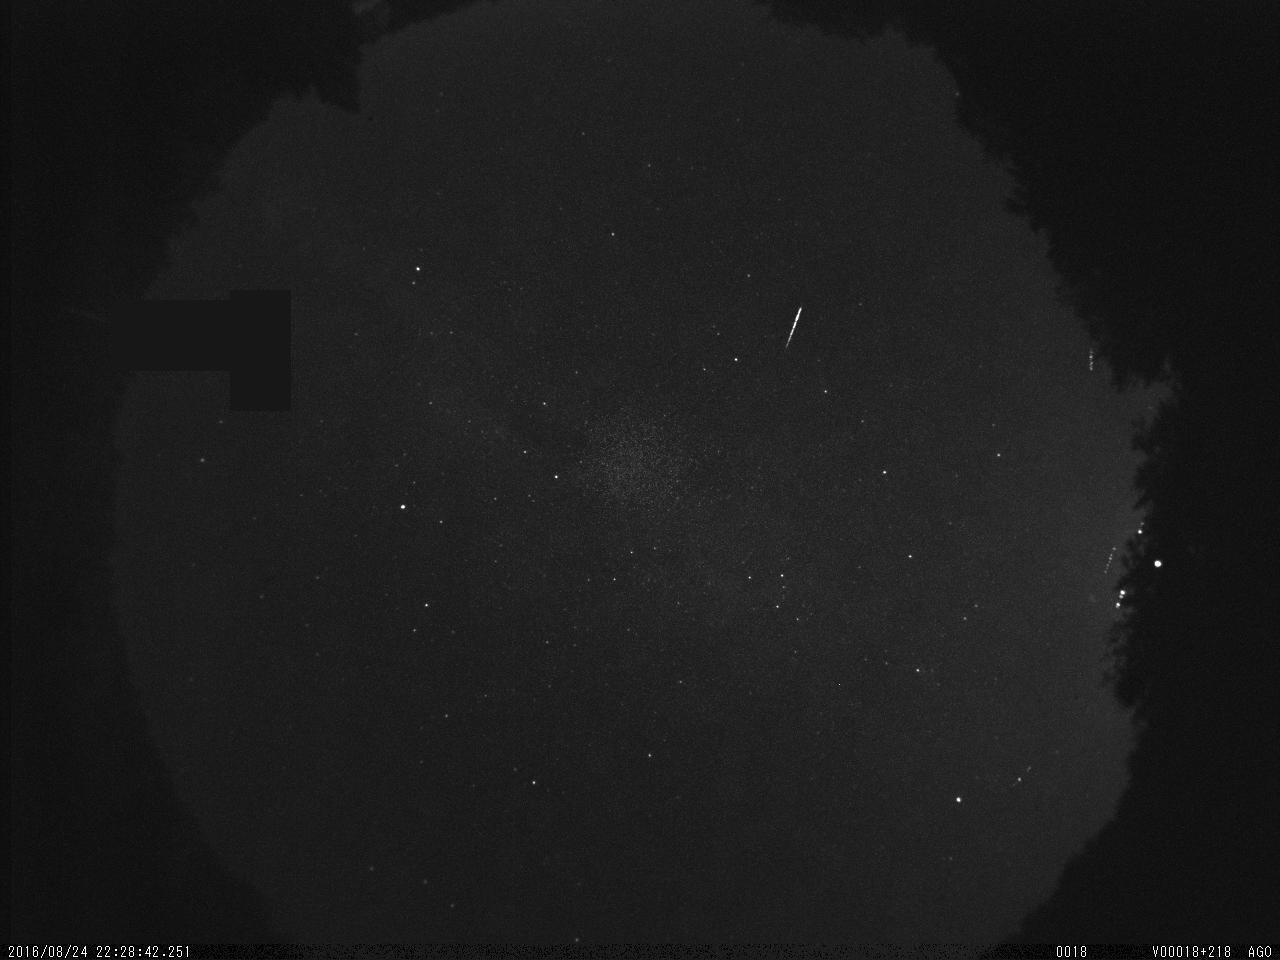meteor: (746, 284, 834, 360)
